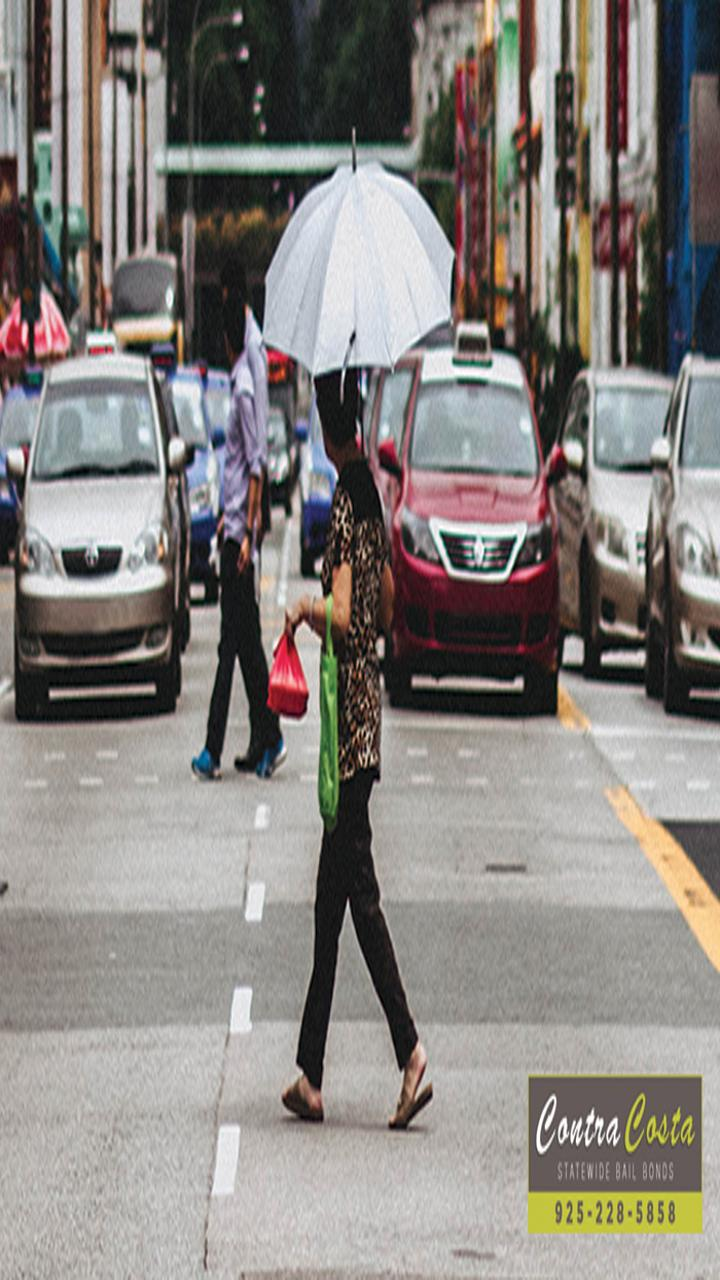pedestrian: (272, 343, 446, 1156), (183, 285, 299, 807)
vehicle: (16, 347, 194, 721), (377, 339, 555, 713), (562, 341, 675, 688), (650, 334, 720, 704)
